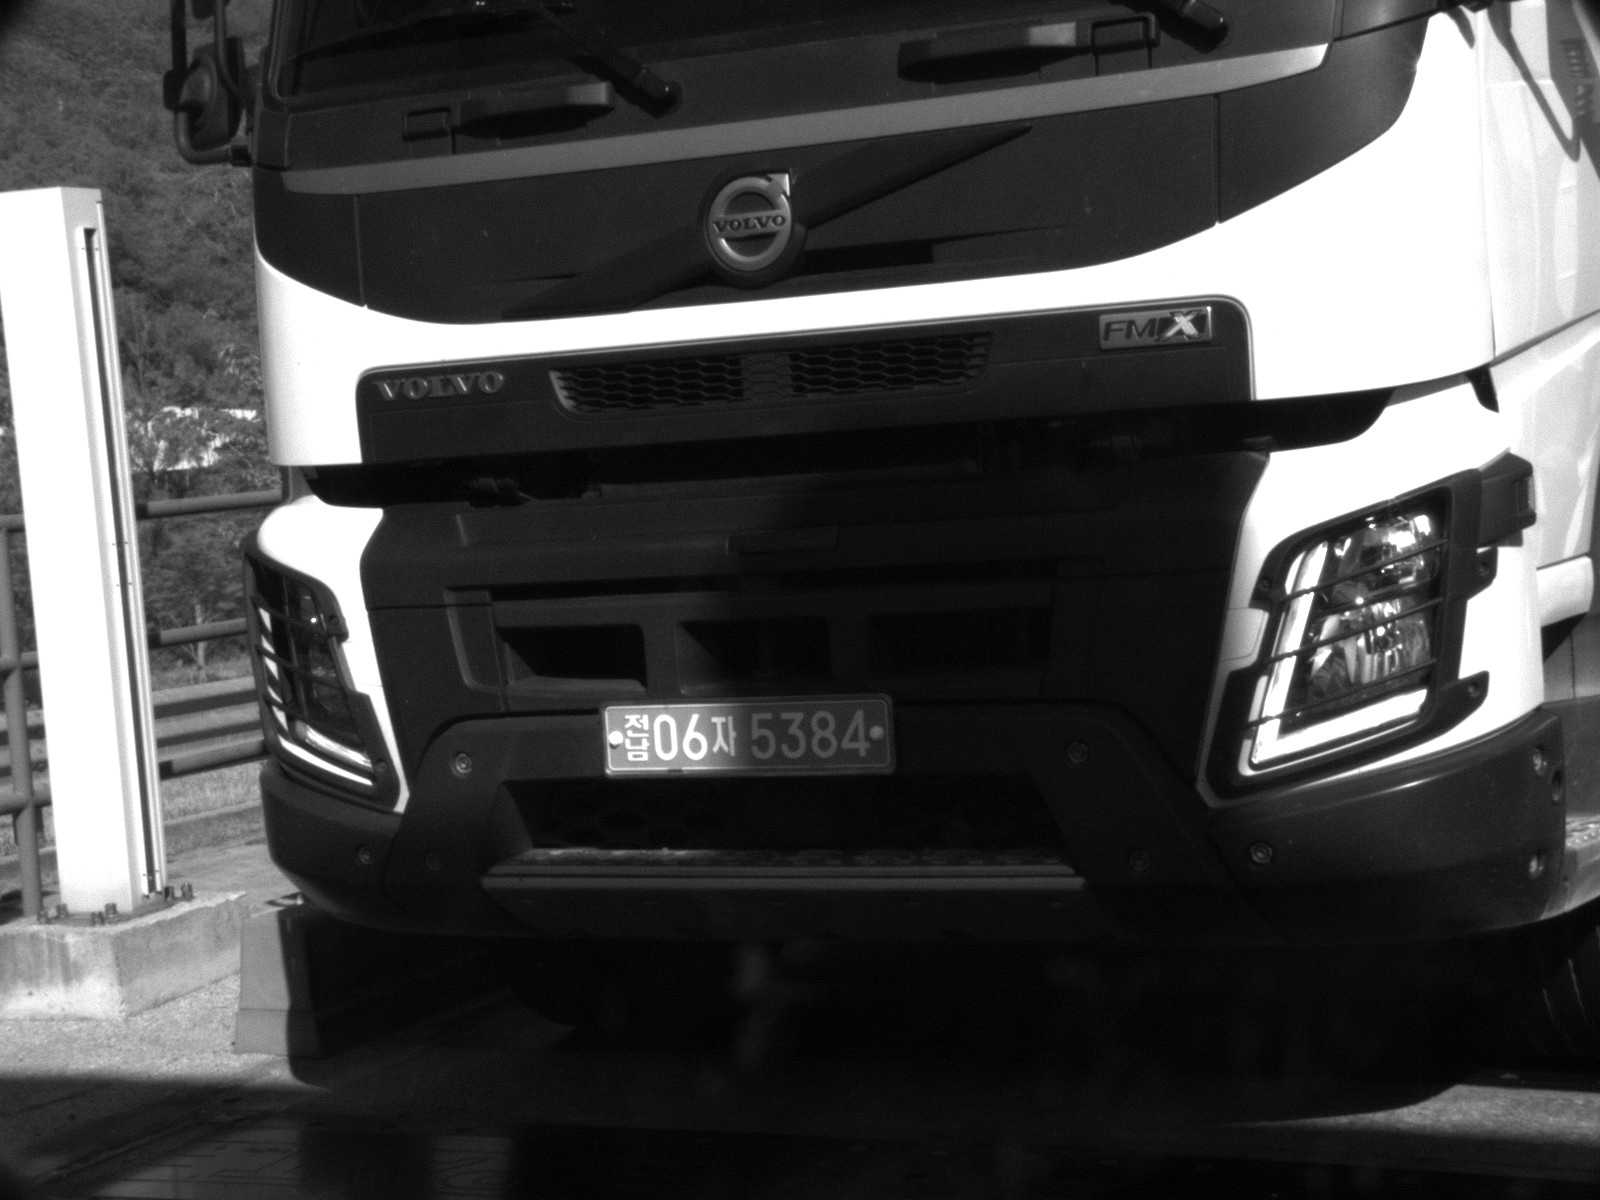car: (154, 1, 1597, 1075)
plate: (600, 697, 890, 775)
